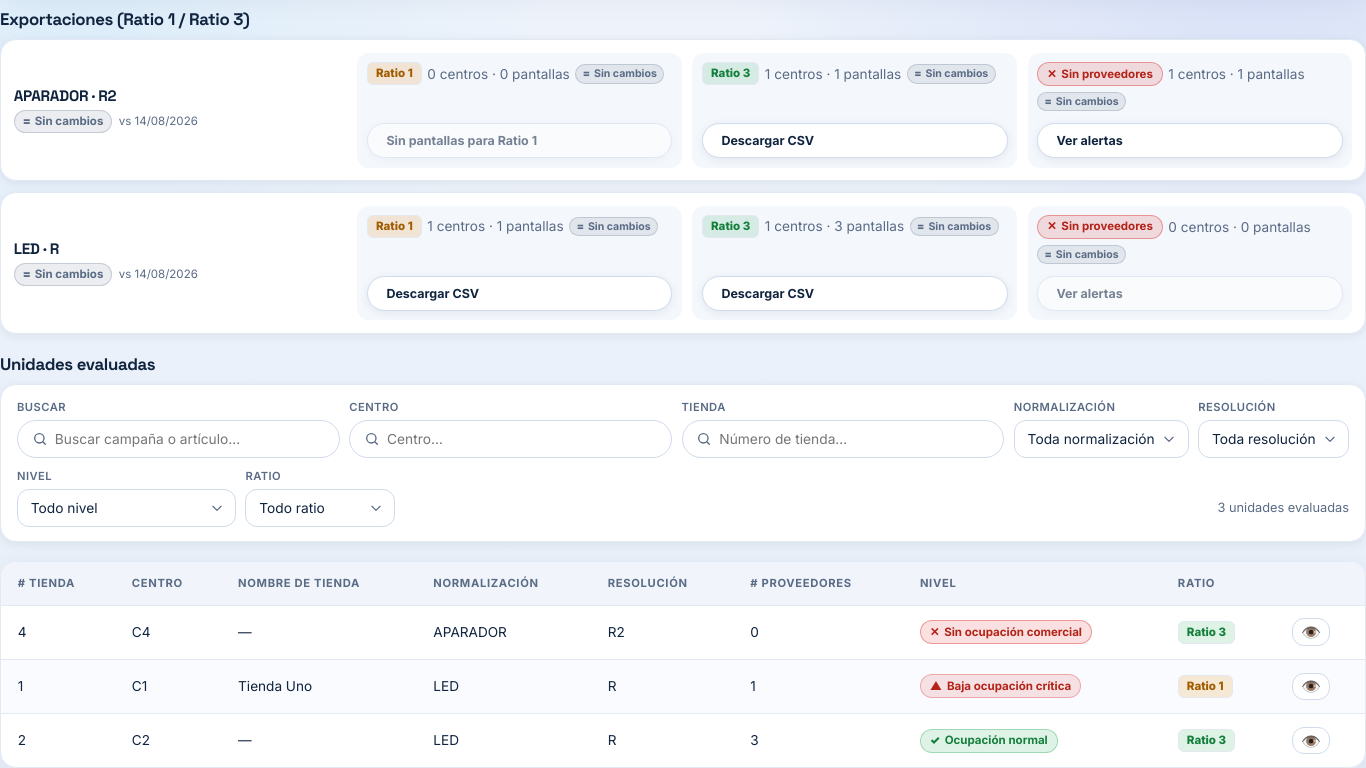
Test: LowOccupancyPage — tabla, filtros y detalle › abre el detalle con los contenidos deduplicados
(page scrolled)
Check: the text "Tienda Uno" is shown, box [221, 659, 417, 714]
# La fila de la tienda 2 (3 proveedores).
Click the button named "Ver detalle": (1311, 741) [1292, 727, 1330, 754]
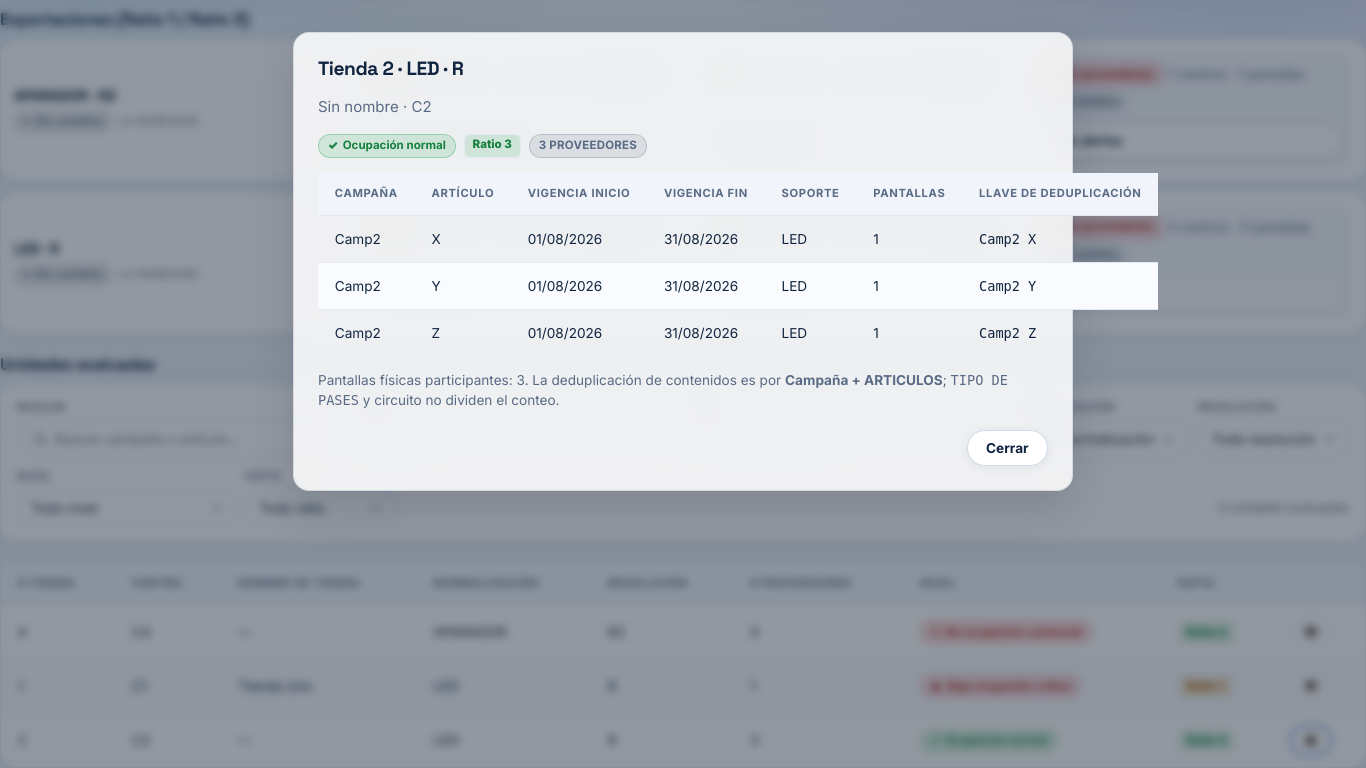
Check: the text "Camp2" is shown 3 times, box [318, 216, 415, 262]; [318, 262, 415, 310]; [318, 309, 415, 356]
Check: the text "X" is shown, box [415, 216, 511, 262]
Check: the text "Y" is shown, box [415, 262, 511, 310]
